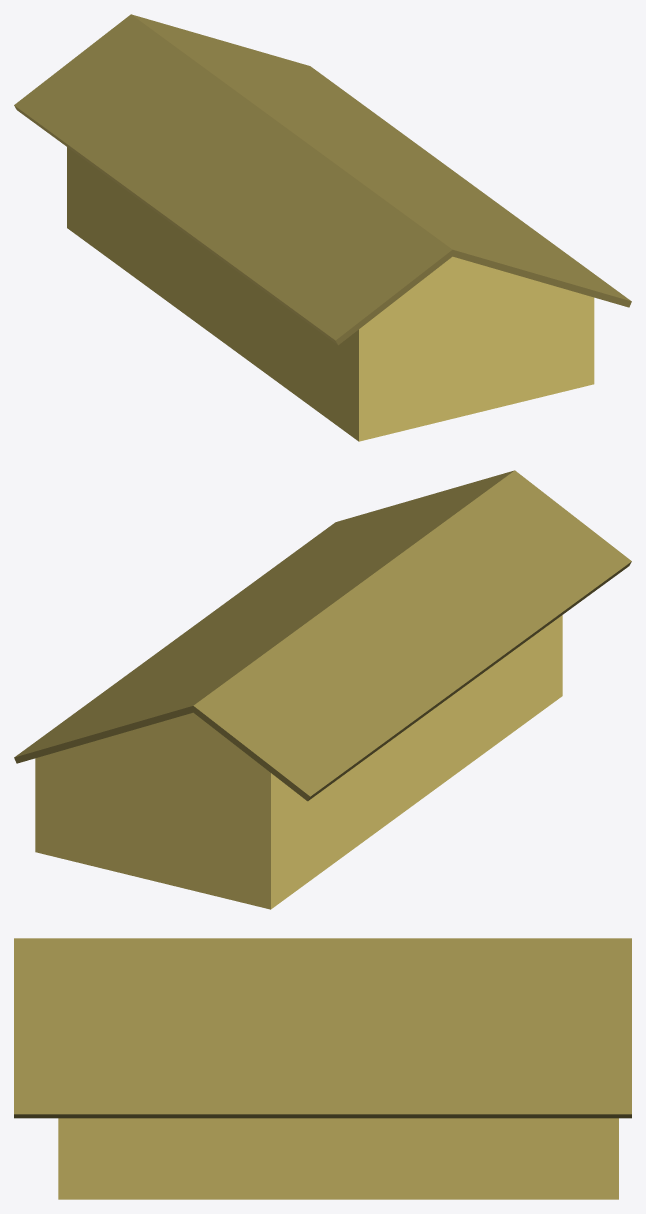
Rendered from result.glb.
The picture shows the model from 3 angles, top to bottom: view 1: azimuth 30°, elevation 25°; view 2: azimuth 150°, elevation 25°; view 3: azimuth 270°, elevation 25°; orthographic projection. The views are drawn at different scales.
Visible parts, largest first — view 1: 672c159c-08b7-4df2-87a7-bbb991646f03__undefined (×2), 1cfdc447-8ab4-4421-8ba2-3ca2a72683cc__undefined; view 2: 672c159c-08b7-4df2-87a7-bbb991646f03__undefined (×2), 1cfdc447-8ab4-4421-8ba2-3ca2a72683cc__undefined; view 3: 672c159c-08b7-4df2-87a7-bbb991646f03__undefined, 1cfdc447-8ab4-4421-8ba2-3ca2a72683cc__undefined.
Part boxes in pixels (<box>): 672c159c-08b7-4df2-87a7-bbb991646f03__undefined (×2): <box>14,14,631,345</box>; 1cfdc447-8ab4-4421-8ba2-3ca2a72683cc__undefined: <box>67,147,594,441</box>; 672c159c-08b7-4df2-87a7-bbb991646f03__undefined (×2): <box>14,470,631,801</box>; 1cfdc447-8ab4-4421-8ba2-3ca2a72683cc__undefined: <box>35,615,562,909</box>; 672c159c-08b7-4df2-87a7-bbb991646f03__undefined: <box>14,938,631,1118</box>; 1cfdc447-8ab4-4421-8ba2-3ca2a72683cc__undefined: <box>58,1118,618,1199</box>.
Bounding box in the file's own units: 1256 × 776 × 2360.
